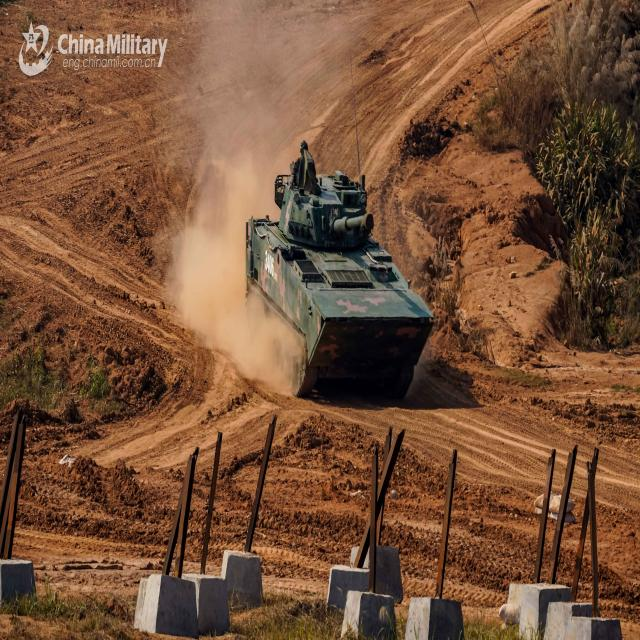tank: (243, 141, 434, 405)
